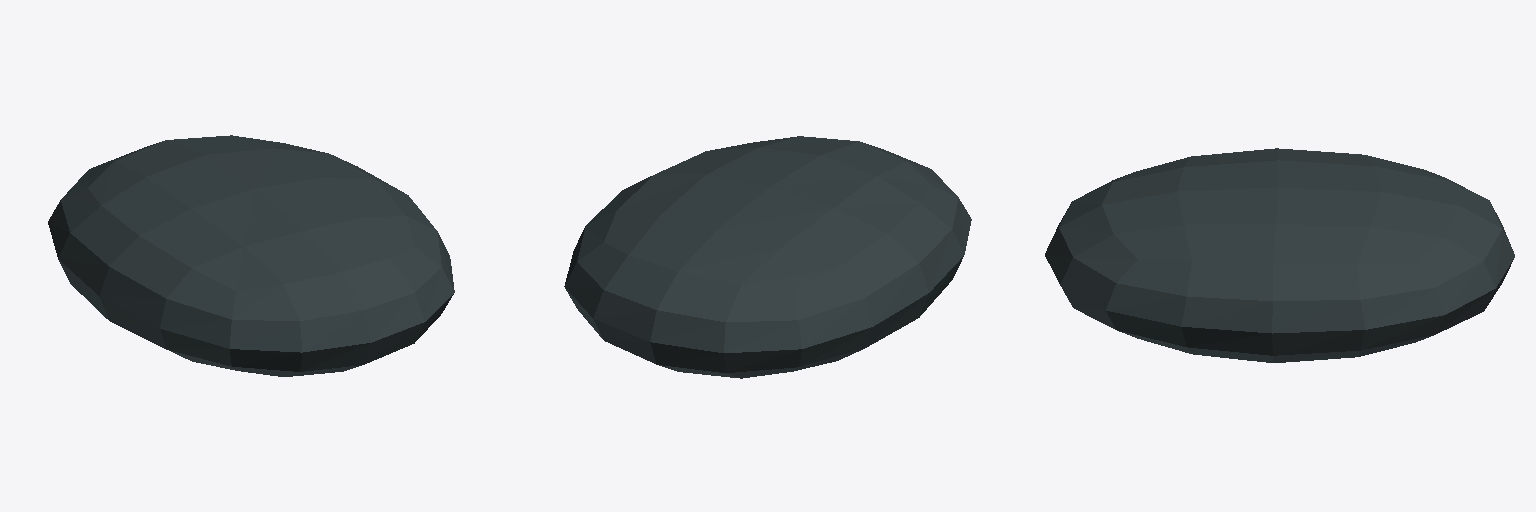
File: stone.obj
The picture shows the model from 3 angles: view 1: azimuth 30°, elevation 25°; view 2: azimuth 150°, elevation 25°; view 3: azimuth 270°, elevation 25°; orthographic projection.
Visible parts, largest first — view 1: stone; view 2: stone; view 3: stone.
Boxes of the visible parts, box(x1,y1,x2,y2) form: stone: box(48, 135, 454, 376); stone: box(564, 136, 971, 378); stone: box(1045, 148, 1514, 362).
Size of the model in its own units: 1.21 by 0.4966 by 1.55.